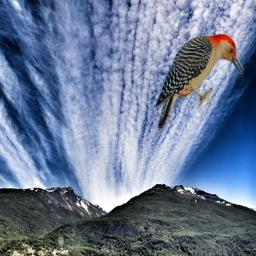Woodpecker: (153, 33, 244, 134)
